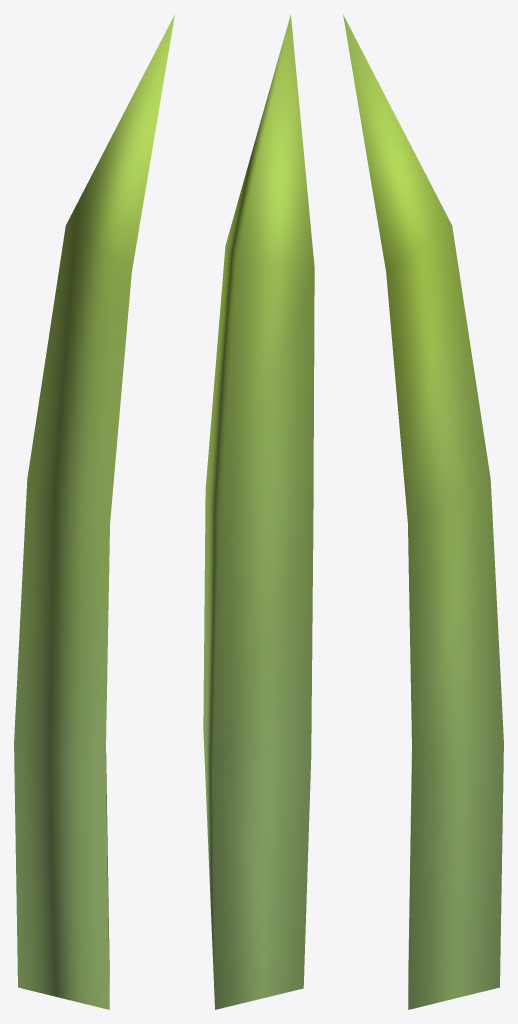
The model's file is weed.fbx.
3 views of the same model, side by side, from view 1: azimuth 90°, elevation 25°; view 2: azimuth 150°, elevation 25°; view 3: azimuth 270°, elevation 25° (orthographic). The views are drawn at different scales.
Visible parts, largest first — view 1: Cube; view 2: Cube; view 3: Cube.
Boxes of the visible parts, box(x1,y1,x2,y2) form: Cube: box(14, 14, 174, 1009); Cube: box(203, 14, 314, 1009); Cube: box(343, 14, 503, 1009).
Size of the model in its own units: 17.88 by 149 by 22.31.
Materials: 1 (1 with a texture image).
